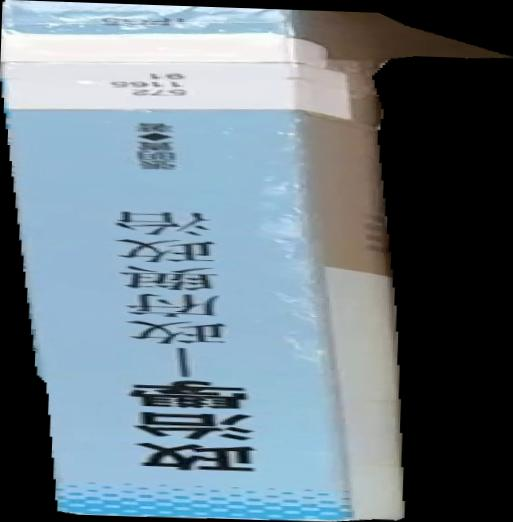reverse: (1, 1, 513, 522)
